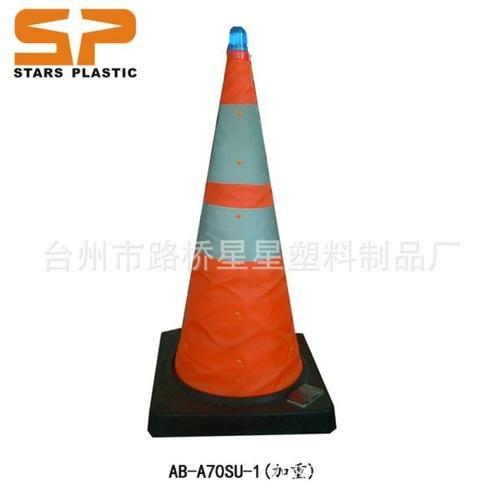cone_barrel: (152, 24, 323, 412)
